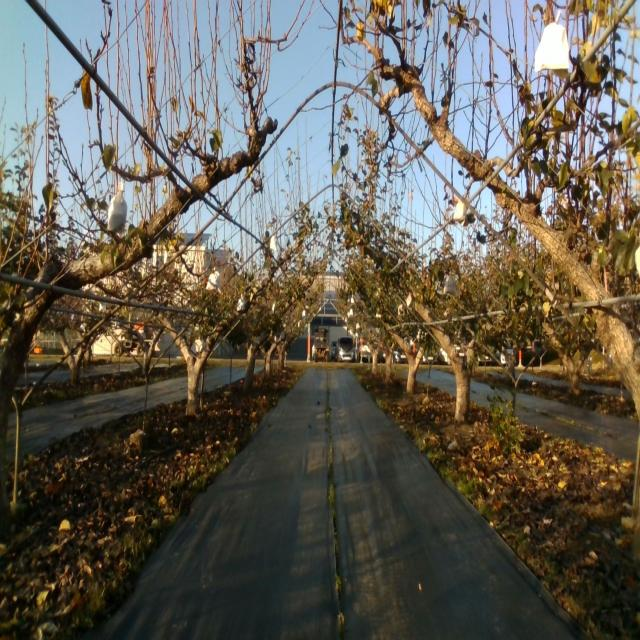pearbags: (534, 8, 570, 72), (107, 182, 127, 236), (453, 200, 467, 229), (205, 266, 220, 291), (444, 274, 456, 297)
